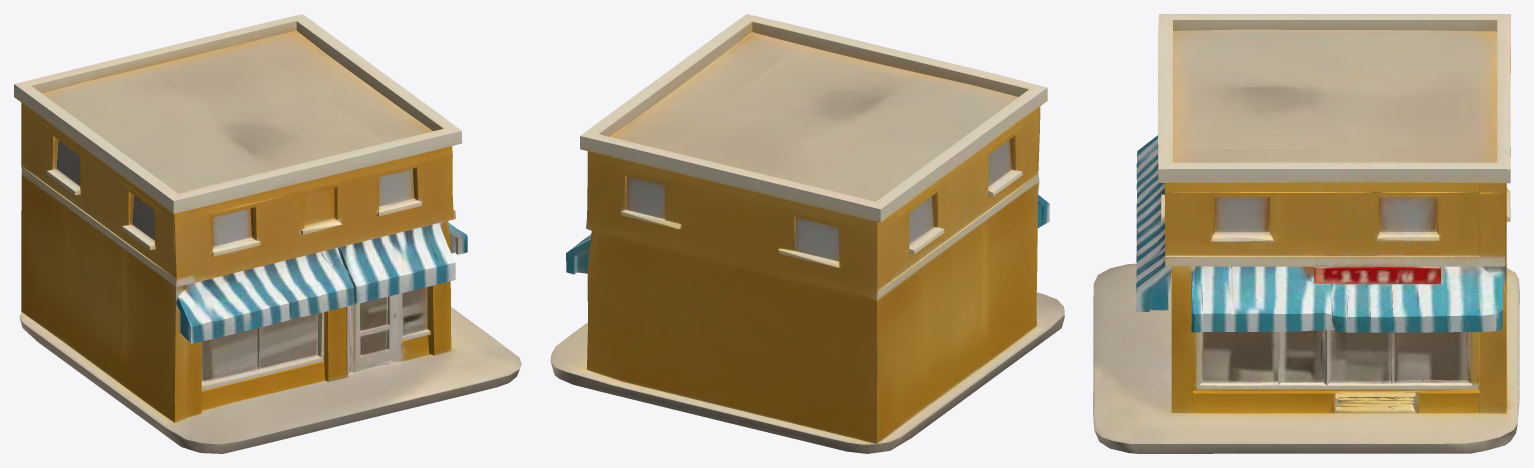
The model's file is cornerShop.glb.
The picture shows the model from 3 angles, left to right: view 1: azimuth 30°, elevation 25°; view 2: azimuth 150°, elevation 25°; view 3: azimuth 270°, elevation 25°; orthographic projection. The views are drawn at different scales.
Parts seen in each view (by area): view 1: model; view 2: model; view 3: model.
Part boxes in pixels (x1,y1,x2,y2): model: [14, 14, 521, 453]; model: [550, 14, 1064, 453]; model: [1093, 14, 1519, 453].
Bounding box in the file's own units: 1.91 × 1.28 × 1.89.
Materials: 1 (1 with a texture image).
